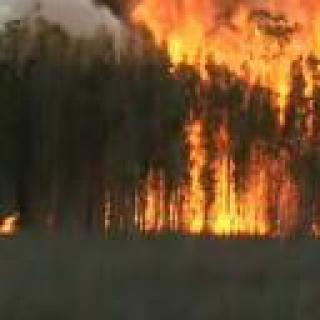fire: (120, 0, 320, 231), (0, 214, 22, 233)
